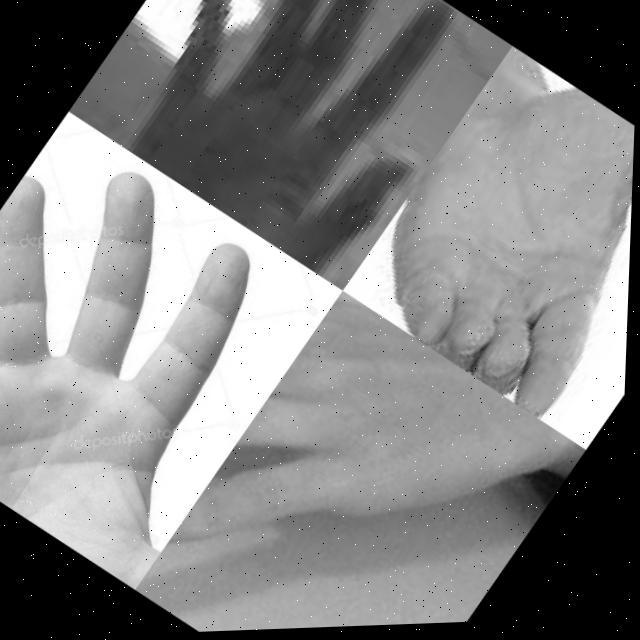no-gloves: (0, 114, 343, 595), (160, 286, 594, 634), (103, 0, 509, 297), (341, 46, 638, 452)
